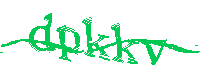d: (29, 12, 55, 52)
k: (111, 19, 139, 64), (83, 17, 110, 61)
p: (55, 25, 80, 62)
v: (139, 38, 169, 67)
